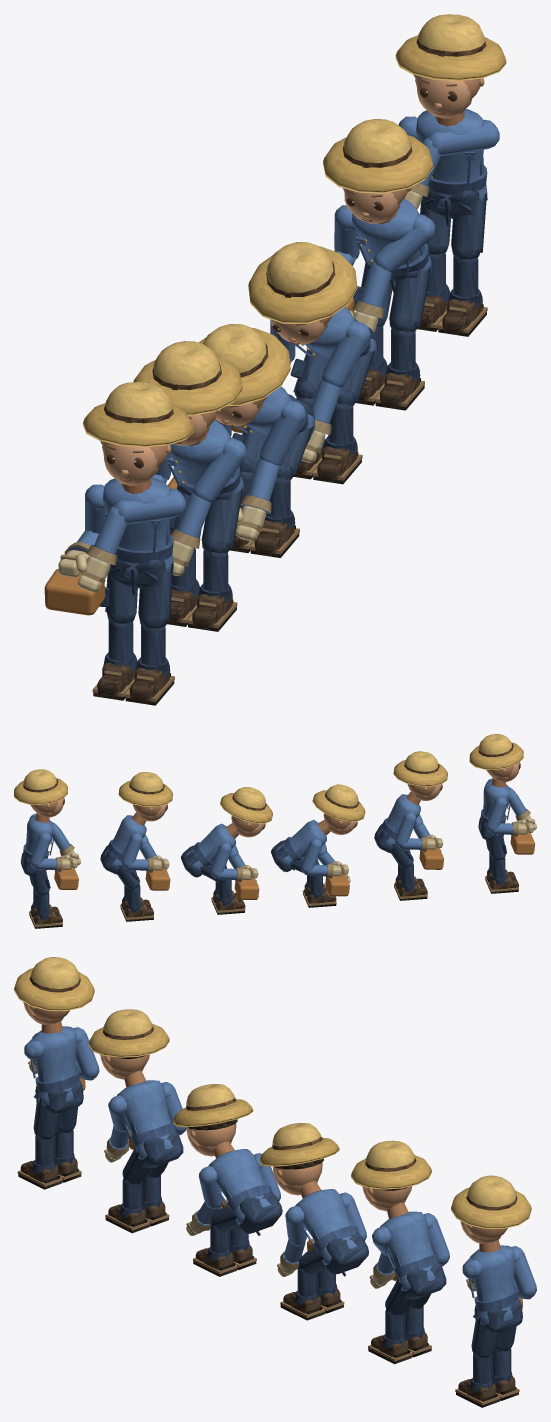
File: ba-harvest-side-before.glb
The picture shows the model from 3 angles, top to bottom: view 1: azimuth 30°, elevation 25°; view 2: azimuth 150°, elevation 25°; view 3: azimuth 270°, elevation 25°; orthographic projection. The views are drawn at different scales.
Parts seen in each view (by area): view 1: strawHat (×6), denimJacketTorso (×6), leftShin (×6), leftUpperArm (×6), leftThigh (×6), head (×5), rightShin (×4), leftLowerArm (×5), rightThigh (×4), leftHandMesh (×3), trouserHips (×2), rightUpperArm (×2) (+1 smaller); view 2: strawHat (×6), denimJacketTorso (×6), rightShin (×6), harvestBasket (×6), rightUpperArm (×6), head (×6), rightHandMesh (×6), rightThigh (×4), trouserHips (×4), leftLowerArm (×2); view 3: denimJacketTorso (×6), strawHat (×6), leftShin (×6), trouserHips (×6), rightShin (×6), head (×6), leftThigh (×4), rightUpperArm (×3), leftUpperArm (×3).
Part boxes in pixels (left/top/right/bottom): strawHat (×6): left=83, top=14, right=506, bottom=447; denimJacketTorso (×6): left=102, top=109, right=487, bottom=578; leftShin (×6): left=125, top=256, right=487, bottom=705; leftUpperArm (×6): left=113, top=119, right=499, bottom=524; leftThigh (×6): left=138, top=193, right=486, bottom=628; head (×5): left=100, top=75, right=484, bottom=485; rightShin (×4): left=92, top=252, right=449, bottom=700; leftLowerArm (×5): left=89, top=261, right=391, bottom=565; rightThigh (×4): left=99, top=196, right=450, bottom=623; leftHandMesh (×3): left=75, top=495, right=271, bottom=592; trouserHips (×2): left=108, top=188, right=479, bottom=594; rightUpperArm (×2): left=85, top=205, right=359, bottom=533; strawHat (×6): left=14, top=734, right=523, bottom=823; denimJacketTorso (×6): left=21, top=778, right=510, bottom=872; rightShin (×6): left=32, top=858, right=518, bottom=928; harvestBasket (×6): left=54, top=832, right=534, bottom=899; rightUpperArm (×6): left=30, top=797, right=507, bottom=877; head (×6): left=30, top=762, right=520, bottom=837; rightHandMesh (×6): left=56, top=819, right=534, bottom=882; rightThigh (×4): left=31, top=834, right=506, bottom=895; trouserHips (×4): left=100, top=823, right=392, bottom=877; leftLowerArm (×2): left=51, top=792, right=526, bottom=851; denimJacketTorso (×6): left=30, top=1021, right=518, bottom=1324; strawHat (×6): left=14, top=957, right=531, bottom=1228; leftShin (×6): left=17, top=1135, right=500, bottom=1407; trouserHips (×6): left=33, top=1080, right=522, bottom=1333; rightShin (×6): left=54, top=1130, right=519, bottom=1400; head (×6): left=23, top=1002, right=507, bottom=1243; leftThigh (×4): left=33, top=1097, right=497, bottom=1358; rightUpperArm (×3): left=74, top=1027, right=536, bottom=1297; leftUpperArm (×3): left=108, top=1095, right=306, bottom=1246.
Size of what is drawn, in the model's own units: 6.26 by 2.4 by 5.22.
